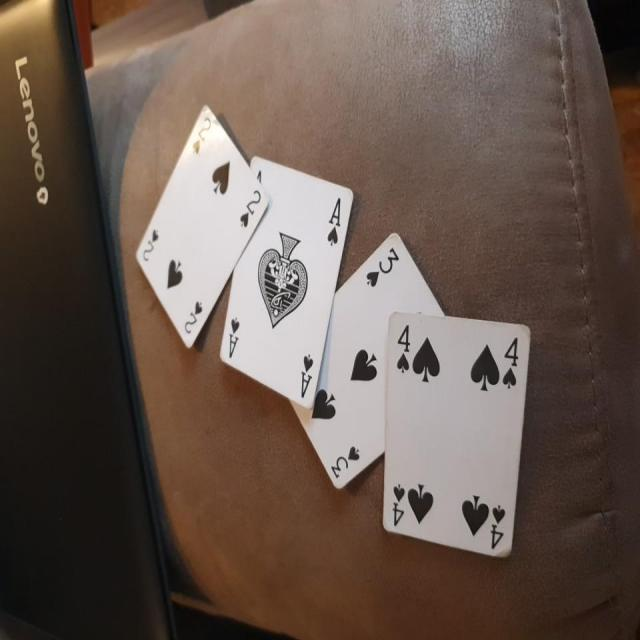2 Spades: (126, 108, 266, 360)
3 Spades: (286, 223, 470, 505)
4 Spades: (375, 308, 530, 564)
A Spades: (216, 148, 362, 409)
